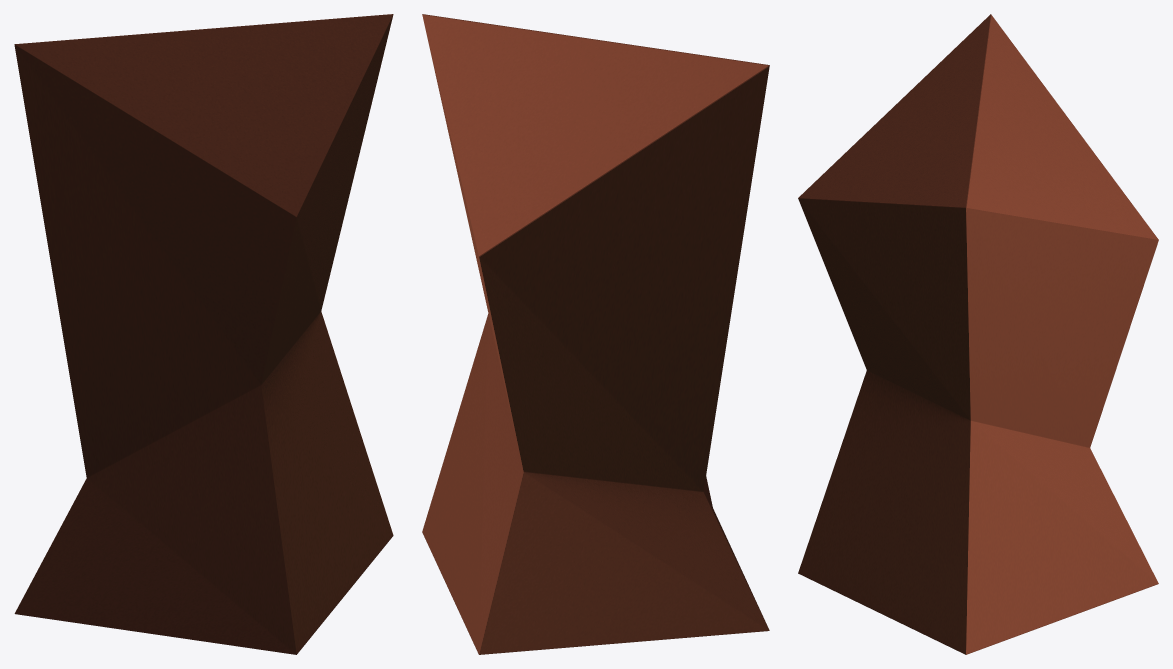
File: child2.gltf
The picture shows the model from 3 angles, left to right: view 1: azimuth 30°, elevation 25°; view 2: azimuth 150°, elevation 25°; view 3: azimuth 270°, elevation 25°; orthographic projection. The views are drawn at different scales.
Visible parts, largest first — view 1: Cube.005; view 2: Cube.005; view 3: Cube.005.
Boxes of the visible parts, bbox=[...] form: Cube.005: bbox=[14, 14, 393, 654]; Cube.005: bbox=[422, 14, 769, 654]; Cube.005: bbox=[798, 14, 1158, 654].
Bounding box in the file's own units: 1.61 × 2.41 × 1.61.
1 material, 1 textured.
